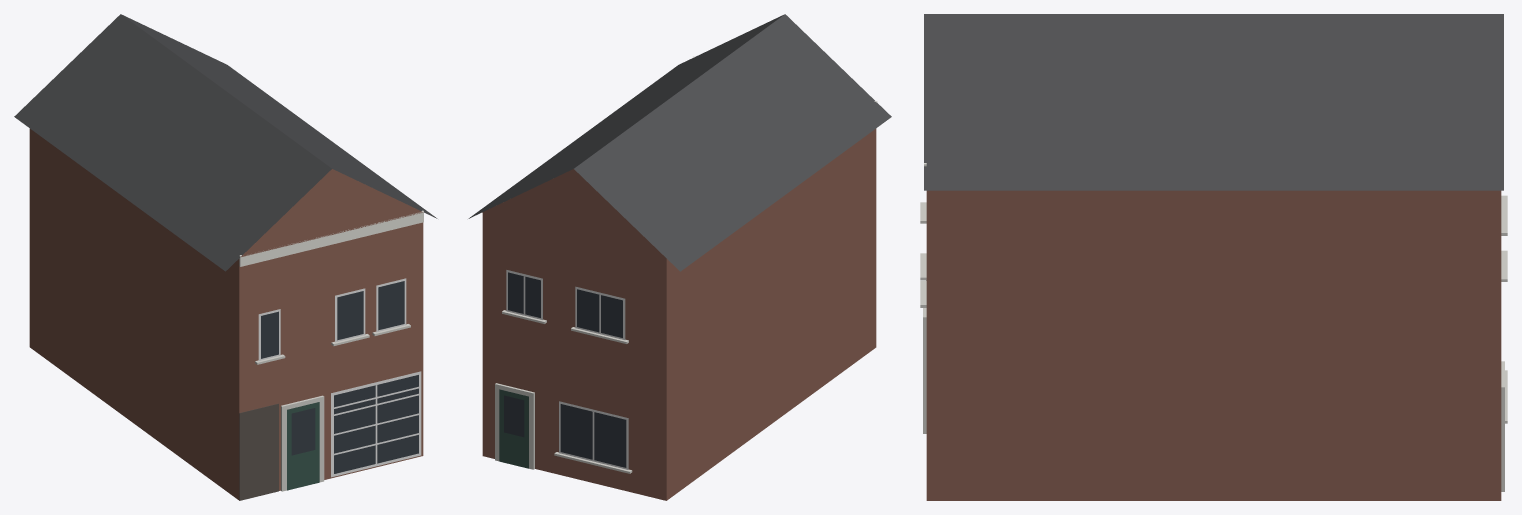
File: nw-ao-hebriden__red__2__gable__short__solid.glb
3 views of the same model, side by side, from view 1: azimuth 30°, elevation 25°; view 2: azimuth 150°, elevation 25°; view 3: azimuth 270°, elevation 25° (orthographic). The views are drawn at different scales.
Visible parts, largest first — view 1: nw-ao-hebriden__red__2__gable__short__solid; view 2: nw-ao-hebriden__red__2__gable__short__solid; view 3: nw-ao-hebriden__red__2__gable__short__solid.
Part boxes in pixels (x1,y1,x2,y2): nw-ao-hebriden__red__2__gable__short__solid: [14, 14, 437, 500]; nw-ao-hebriden__red__2__gable__short__solid: [468, 14, 891, 500]; nw-ao-hebriden__red__2__gable__short__solid: [920, 14, 1507, 500].
Bounding box in the file's own units: 6.49 × 9.03 × 11.29.
